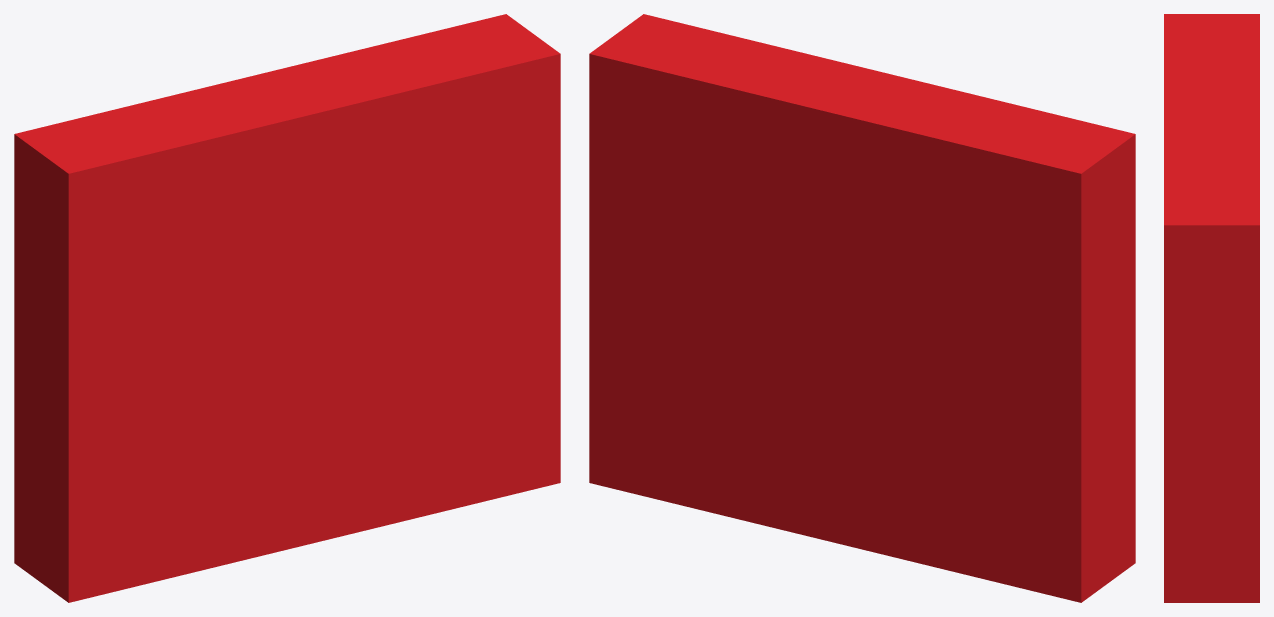
Rendered from red-button.glb.
3 renders of one model, left to right at view 1: azimuth 30°, elevation 25°; view 2: azimuth 150°, elevation 25°; view 3: azimuth 270°, elevation 25°, orthographic. The views are drawn at different scales.
Parts seen in each view (by area): view 1: mesh_id40; view 2: mesh_id40; view 3: mesh_id40.
Part boxes in pixels (x1,y1,x2,y2): mesh_id40: (14, 14, 560, 602); mesh_id40: (589, 14, 1135, 602); mesh_id40: (1164, 14, 1259, 602).
Bounding box in the file's own units: 0.0129 × 0.0108 × 0.00248.
1 material, 1 textured.
